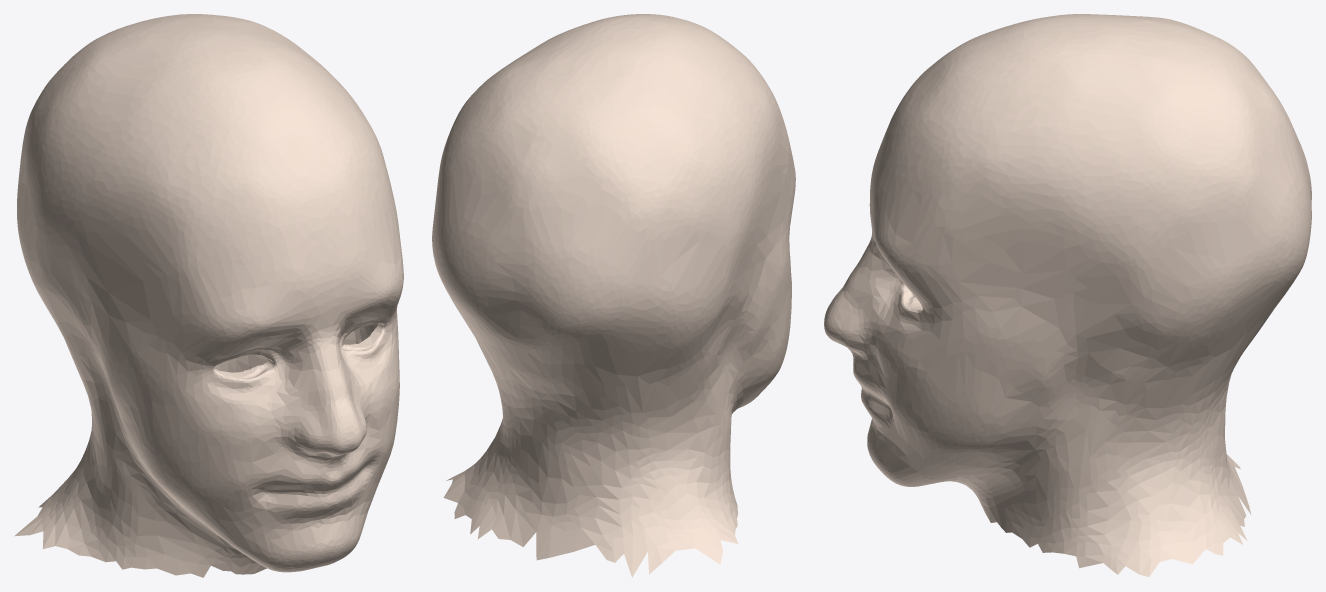
Rendered from cabeza-piel.glb.
3 views of the same model, side by side, from view 1: azimuth 30°, elevation 25°; view 2: azimuth 150°, elevation 25°; view 3: azimuth 270°, elevation 25° (orthographic). The views are drawn at different scales.
Visible parts, largest first — view 1: piel; view 2: piel; view 3: piel.
Boxes of the visible parts, x1=… form: piel: x1=14, y1=14, x2=403, y2=577; piel: x1=432, y1=14, x2=795, y2=577; piel: x1=824, y1=14, x2=1311, y2=576.
Bounding box in the file's own units: 0.1636 × 0.2519 × 0.2299.
